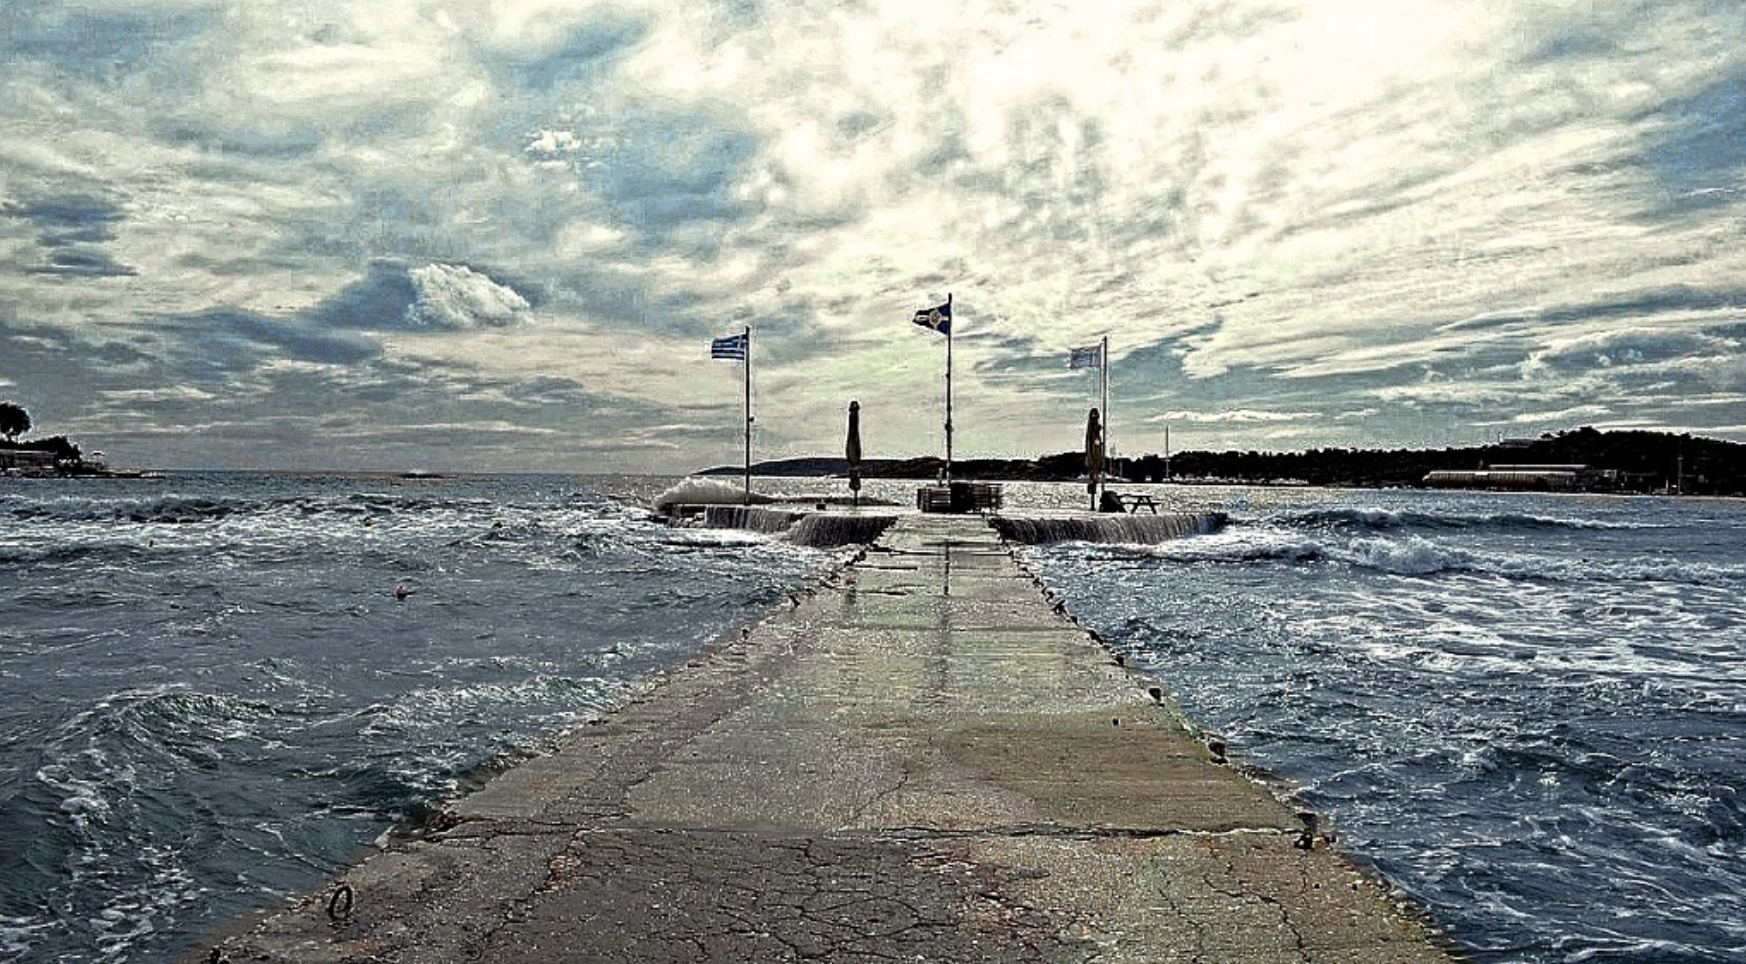Flag: (707, 331, 749, 364), (909, 302, 951, 335), (1066, 343, 1109, 372)
